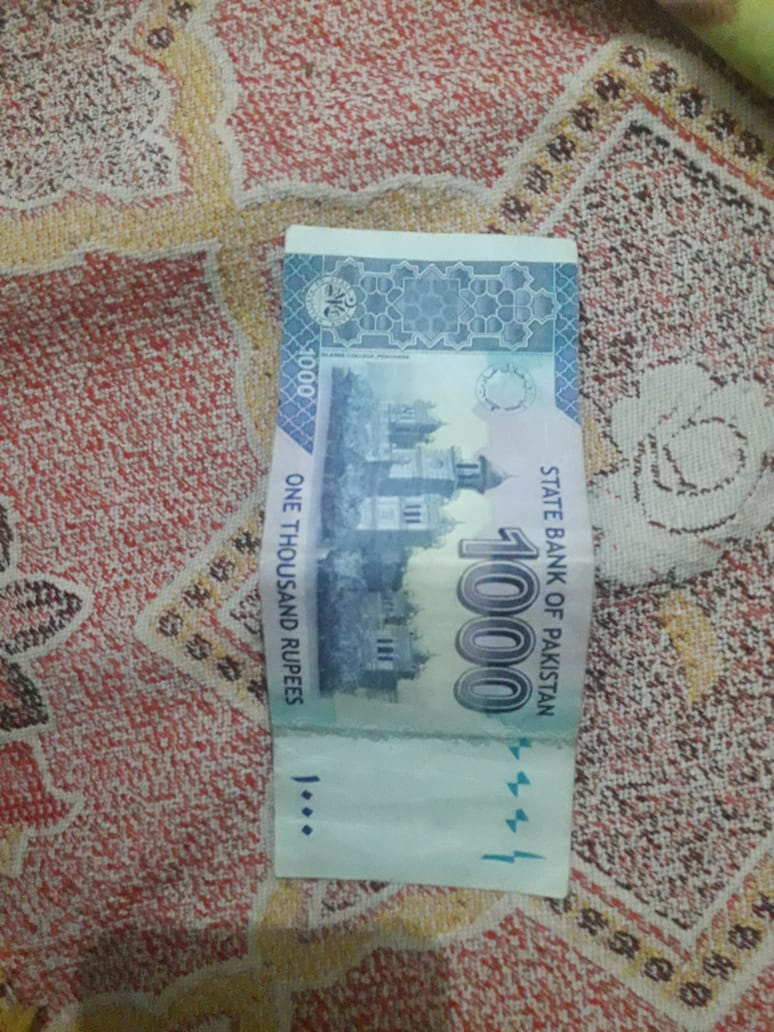1000 rupee: (260, 228, 618, 951)
